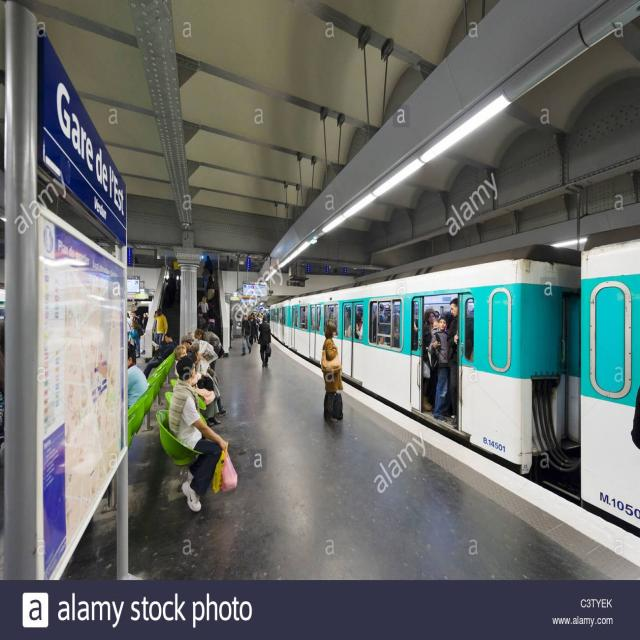body: (166, 354, 238, 514), (344, 288, 473, 356), (173, 344, 221, 426), (427, 315, 454, 422), (319, 320, 344, 426), (422, 353, 459, 418), (142, 331, 179, 380), (445, 296, 459, 422), (194, 328, 225, 377), (127, 342, 149, 410), (267, 306, 320, 332), (162, 250, 185, 300), (256, 314, 272, 369), (127, 318, 145, 365), (180, 334, 203, 366), (153, 307, 169, 351), (240, 314, 252, 357), (247, 311, 263, 343), (324, 306, 338, 333), (126, 306, 132, 367), (201, 264, 211, 298), (207, 307, 219, 334), (206, 275, 215, 308), (134, 307, 148, 328), (229, 310, 235, 349), (204, 254, 214, 276), (198, 296, 210, 314), (197, 310, 207, 330), (131, 310, 141, 329)
